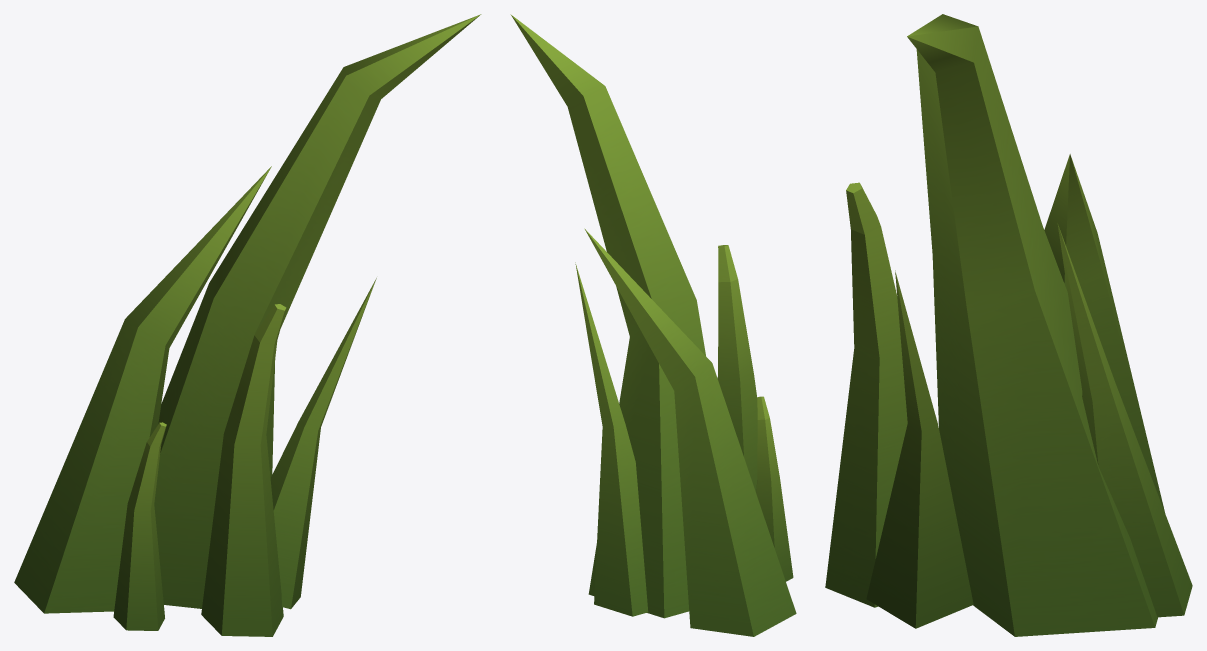
The model's file is hierba5.fbx.
The picture shows the model from 3 angles, left to right: view 1: azimuth 30°, elevation 25°; view 2: azimuth 150°, elevation 25°; view 3: azimuth 270°, elevation 25°; orthographic projection. The views are drawn at different scales.
Visible parts, largest first — view 1: hierba5; view 2: hierba5; view 3: hierba5.
Boxes of the visible parts, x1,y1,x2,y2 form: hierba5: (14,14,481,636); hierba5: (510,14,796,636); hierba5: (825,14,1192,636).
Bounding box in the file's own units: 188 × 259 × 121.
